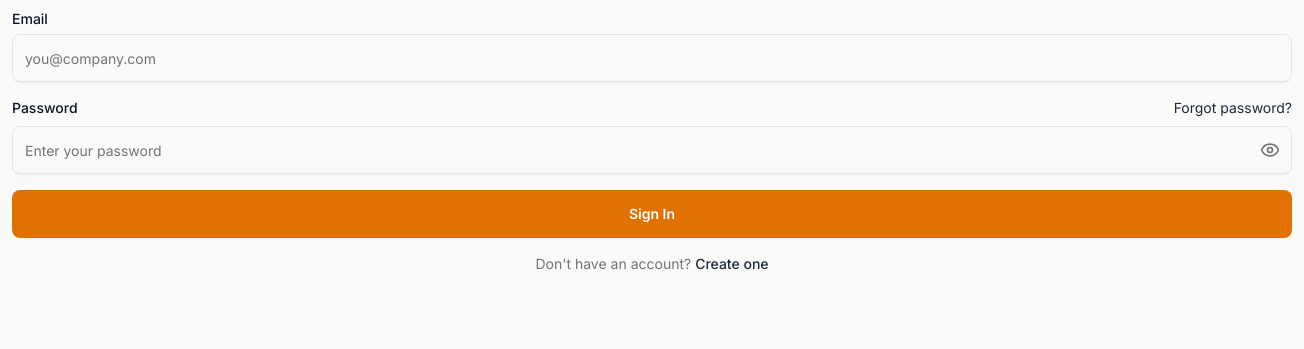
Test case: LoginForm › Form Submission › should display error message on failed login
The width and height of the screenshot is (1304, 349).
Type "test@example.com" into the field labelled "Email" at {"x": 652, "y": 58}, box [12, 34, 1292, 82]
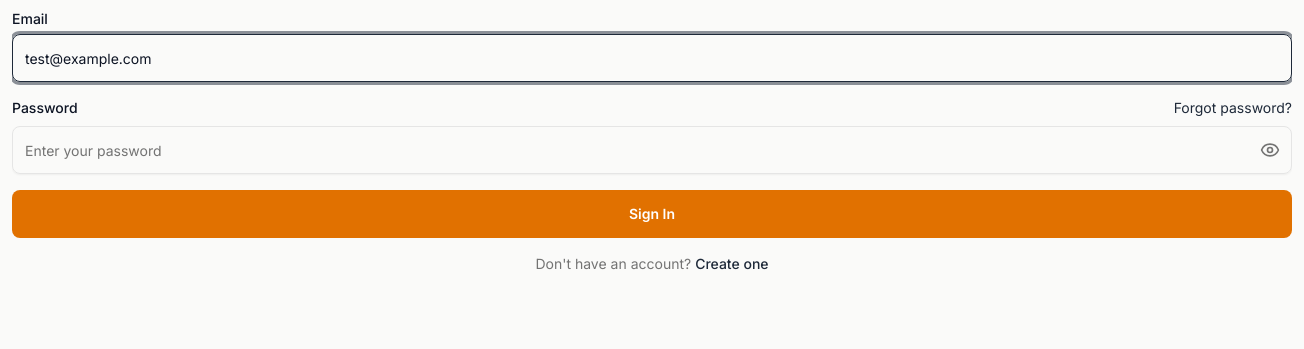
Type "wrong-password" into the password field with placeholder "Enter your password" at {"x": 652, "y": 150}, box [12, 126, 1292, 174]
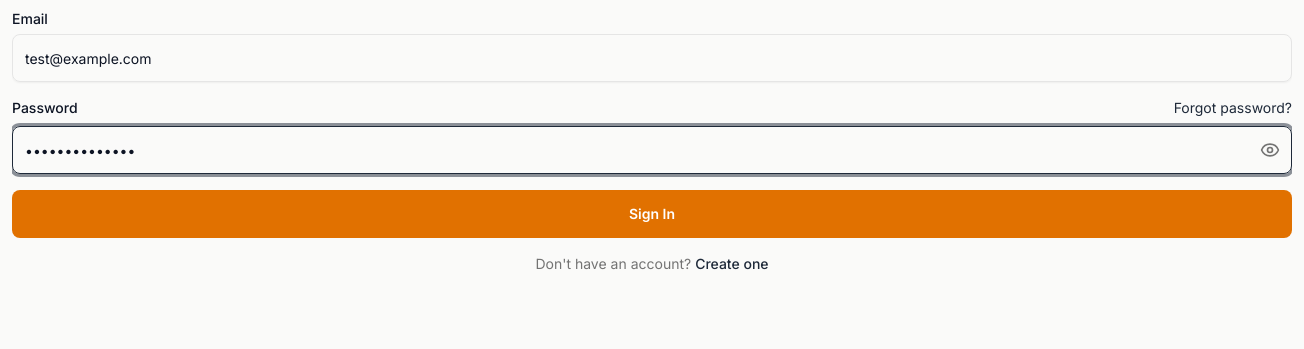
Click the button "Sign In" at {"x": 652, "y": 214}, box [12, 190, 1292, 238]
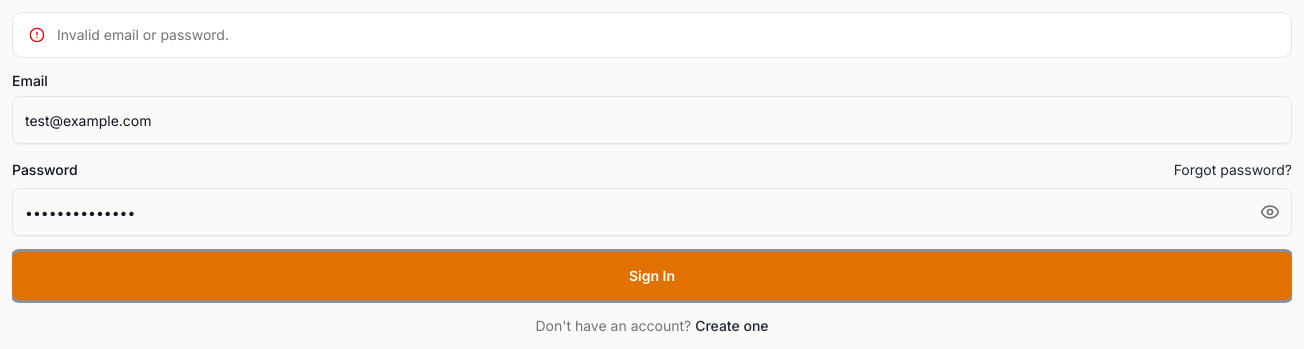
Result: the text "Invalid email or password." is shown at [57, 26, 229, 43]
